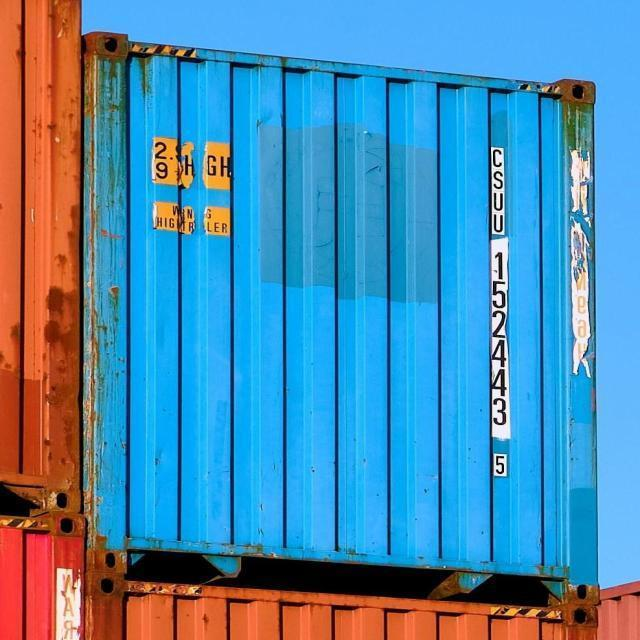container_number: (488, 138, 512, 482)
